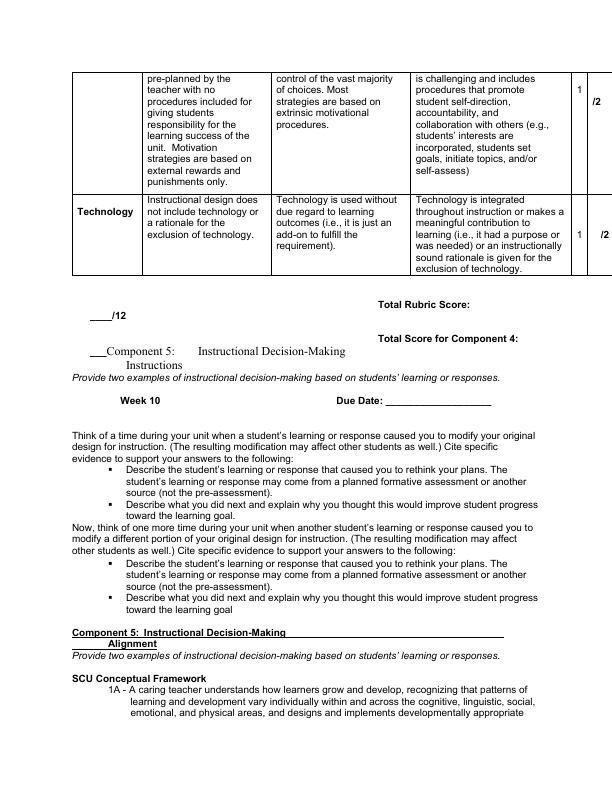input: (67, 424, 545, 620), (385, 392, 496, 412), (333, 389, 384, 409), (117, 387, 165, 406), (84, 306, 113, 324), (85, 342, 107, 360)
table: (67, 66, 612, 286)
text: (67, 671, 546, 725), (376, 294, 526, 350), (105, 339, 349, 371), (70, 371, 506, 387), (69, 648, 504, 663), (68, 623, 288, 641), (114, 305, 127, 325)
